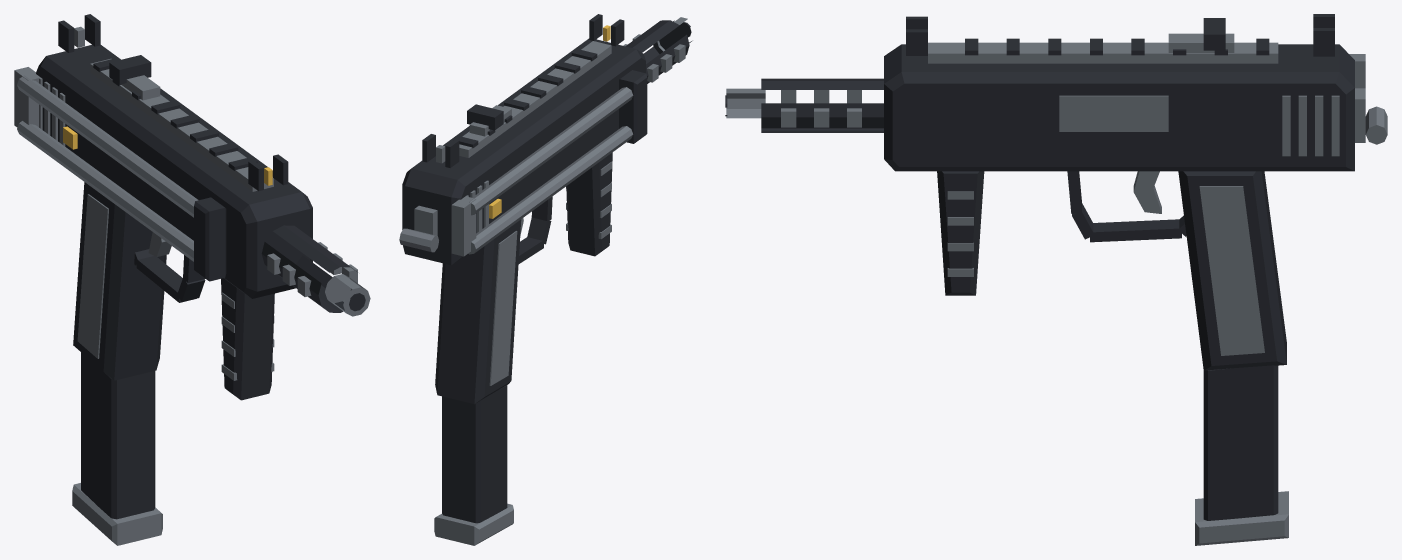
Rendered from compact_smg.glb.
The picture shows the model from 3 angles, left to right: view 1: azimuth 30°, elevation 25°; view 2: azimuth 150°, elevation 25°; view 3: azimuth 270°, elevation 25°; orthographic projection. The views are drawn at different scales.
Visible parts, largest first — view 1: compact_smg_mesh, MAGAZINE, STOCK, FOREGRIP, BOLT; view 2: compact_smg_mesh, MAGAZINE, STOCK, FOREGRIP, BOLT; view 3: compact_smg_mesh, MAGAZINE, FOREGRIP, BOLT, TRIGGER.
Boxes of the visible parts, <box> form: compact_smg_mesh: <box>36,14,370,380</box>; MAGAZINE: <box>72,352,162,545</box>; STOCK: <box>14,67,226,281</box>; FOREGRIP: <box>221,278,274,400</box>; BOLT: <box>109,55,160,100</box>; compact_smg_mesh: <box>399,14,692,404</box>; MAGAZINE: <box>434,385,513,545</box>; STOCK: <box>451,70,647,256</box>; FOREGRIP: <box>566,152,612,256</box>; BOLT: <box>467,104,511,136</box>; compact_smg_mesh: <box>725,14,1387,370</box>; MAGAZINE: <box>1195,365,1288,545</box>; FOREGRIP: <box>937,171,984,295</box>; BOLT: <box>1168,18,1234,52</box>; TRIGGER: <box>1133,171,1161,213</box>.
Size of the model in its own units: 0.0512 by 0.258 by 0.3025.
Materials: 1 (1 with a texture image).
